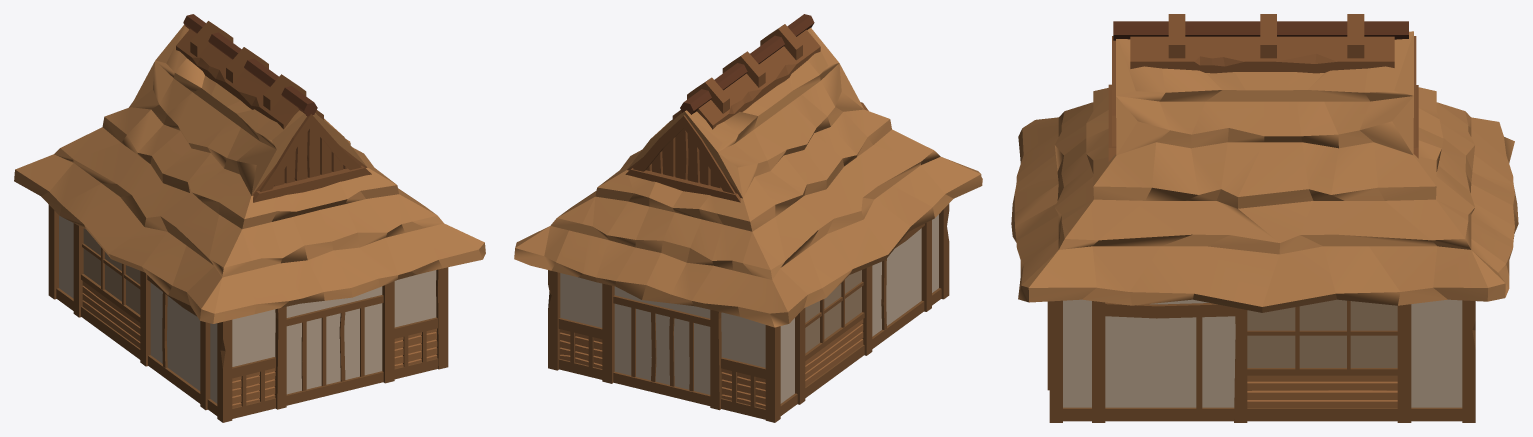
Rendered from AHut.glb.
3 renders of one model, left to right at view 1: azimuth 30°, elevation 25°; view 2: azimuth 150°, elevation 25°; view 3: azimuth 270°, elevation 25°, orthographic. The views are drawn at different scales.
Visible parts, largest first — view 1: AHut; view 2: AHut; view 3: AHut.
Part boxes in pixels (bbox=[...]): AHut: bbox=[14, 14, 485, 422]; AHut: bbox=[514, 14, 982, 422]; AHut: bbox=[1011, 14, 1518, 422].
Bounding box in the file's own units: 0.03 × 0.0281 × 0.0377.
1 material, 1 textured.
